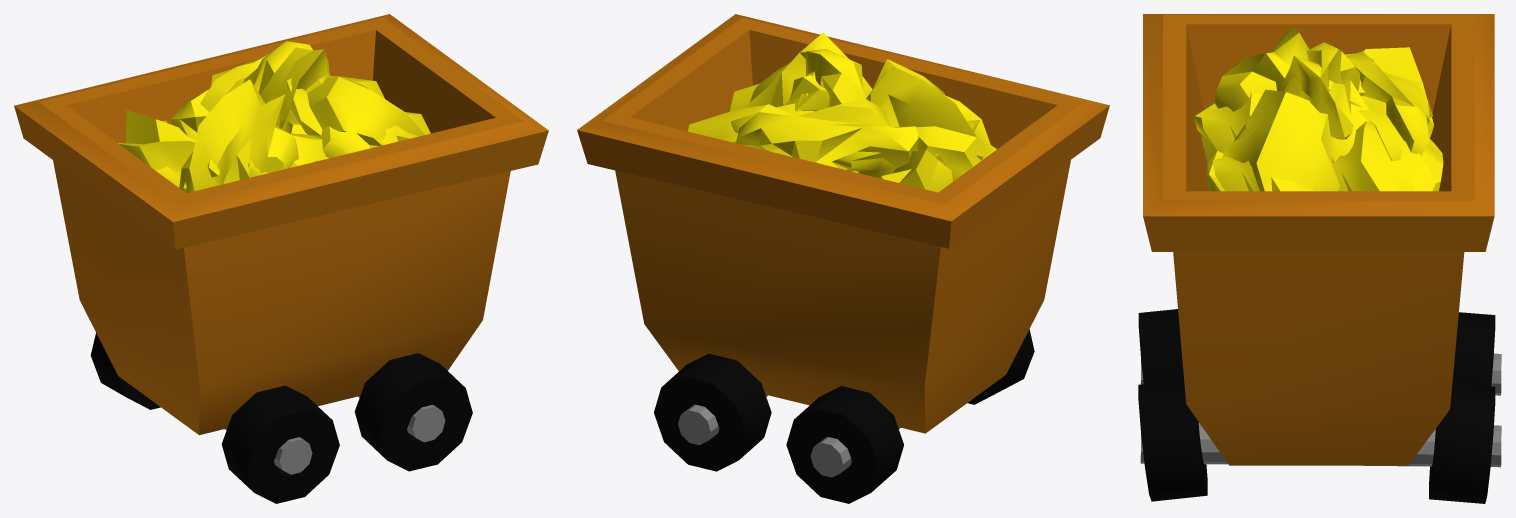
The model's file is csile.fbx.
3 renders of one model, left to right at view 1: azimuth 30°, elevation 25°; view 2: azimuth 150°, elevation 25°; view 3: azimuth 270°, elevation 25°, orthographic. The views are drawn at different scales.
Parts seen in each view (by area): view 1: Boole, Sphere_10, Tube_2, Tube_5, Tube_3, Tube_4, Tube_1; view 2: Boole, Sphere_10, Tube, Tube_3, Tube_4, Tube_1, Tube_5; view 3: Boole, Sphere_10, Tube_2, Tube, Tube_5, Tube_3, Tube_1, Tube_4.
Boxes of the visible parts, x1,y1,x2,y2 form: Boole: (14, 14, 548, 435); Sphere_10: (118, 41, 430, 193); Tube_2: (354, 353, 472, 471); Tube_5: (221, 385, 339, 503); Tube_3: (90, 333, 160, 409); Tube_4: (225, 428, 312, 474); Tube_1: (358, 396, 445, 442); Boole: (577, 14, 1109, 433); Sphere_10: (687, 32, 996, 192); Tube: (654, 353, 771, 471); Tube_3: (786, 386, 903, 503); Tube_4: (810, 427, 900, 477); Tube_1: (678, 395, 767, 445); Tube_5: (967, 329, 1034, 404); Boole: (1143, 14, 1494, 465); Sphere_10: (1194, 27, 1443, 191); Tube_2: (1138, 380, 1207, 501); Tube: (1429, 383, 1495, 503); Tube_5: (1138, 309, 1183, 384); Tube_3: (1452, 312, 1495, 386); Tube_1: (1140, 423, 1501, 467); Tube_4: (1140, 353, 1501, 395).
Size of the model in its own units: 22.87 by 22.24 by 17.34.
